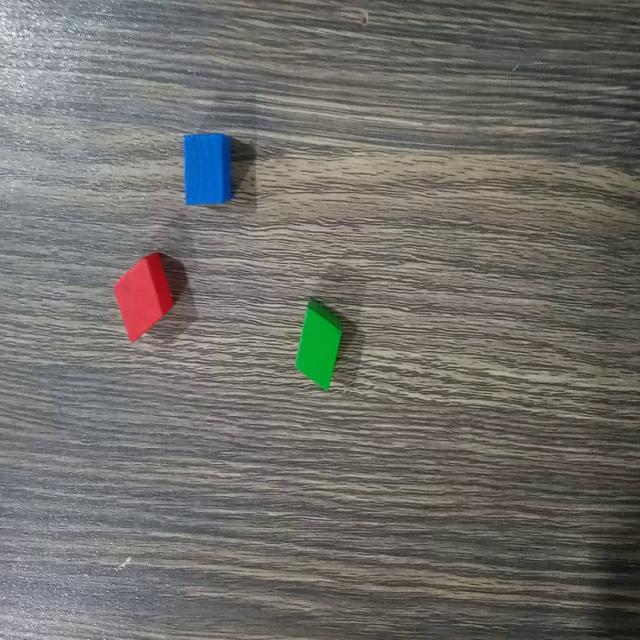cube: (111, 248, 176, 346), (293, 291, 345, 395), (181, 127, 235, 209)
